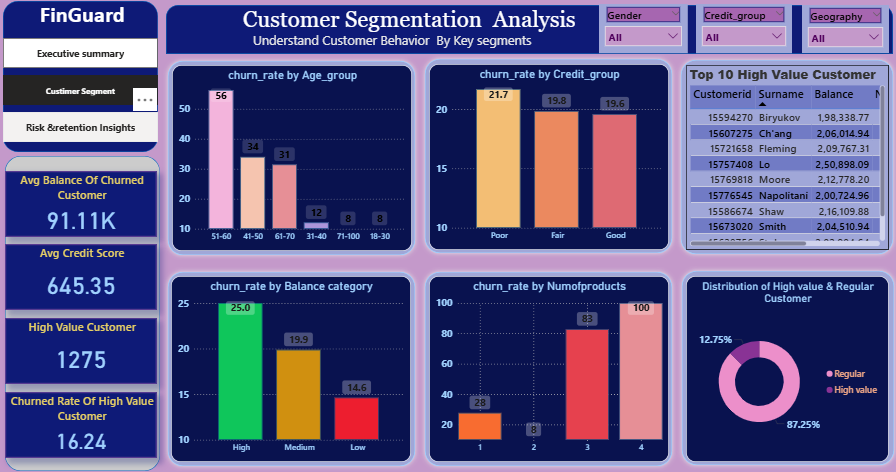

The page's visual inventory and layout, read from the dashboard file:
{"tool":"powerbi","page":{"name":"Custimer Segment","canvas":[1500,820],"ordinal":1},"visuals":[{"type":"shape","box":[10,268.3,258.3,525],"z":0},{"type":"shape","box":[278.3,16.7,1211.7,81.7],"z":1000},{"type":"card","title":"Avg Balance Of Churned Customer","fields":{"Values":["Bank churn clean.Avg balance of churned customer"]},"box":[10,293.3,253.3,110],"z":2000},{"type":"textbox","box":[401.7,15,630,56.7],"z":3000},{"type":"card","title":"Churned Rate Of High Value Customer","fields":{"Values":["Bank churn clean.churn rate of high value cus"]},"box":[10,661.7,253.3,110],"z":4000},{"type":"card","title":"High Value Customer","fields":{"Values":["Bank churn clean.Count of highvalue cus"]},"box":[10,538.3,253.3,110],"z":5000},{"type":"card","title":"Avg Credit Score","fields":{"Values":["Bank churn clean.Avg Credit score of churned customer"]},"box":[10,415,253.3,110],"z":6000},{"type":"shape","box":[273.3,101.7,428.3,340],"z":7000},{"type":"shape","box":[701.7,98.3,428.3,340],"z":8000},{"type":"shape","box":[701.7,453.3,428.3,340],"z":9000},{"type":"shape","box":[273.3,453.3,428.3,340],"z":10000},{"type":"shape","box":[1128.3,100,370,340],"z":11000},{"type":"columnChart","fields":{"Y":["Bank churn clean.churn_rate"],"Category":["Bank churn clean.Age_group"]},"box":[288.3,116.7,400,310],"z":12000},{"type":"columnChart","fields":{"Category":["Bank churn clean.Credit_group"],"Y":["Bank churn clean.churn_rate"]},"box":[716.7,115,400,310],"z":13000},{"type":"shape","box":[1130,451.7,370,340],"z":13500},{"type":"columnChart","fields":{"Y":["Bank churn clean.churn_rate"],"Category":["Bank churn clean.Balance category"]},"box":[286.7,468.3,400,310],"z":14000},{"type":"columnChart","fields":{"Y":["Bank churn clean.churn_rate"],"Category":["Bank churn clean.Numofproducts"]},"box":[716.7,468.3,400,310],"z":15000},{"type":"tableEx","title":"Top 10 High Value Customer","fields":{"Values":["Bank churn clean.Customerid","Bank churn clean.Surname","Bank churn clean.Balance","Bank churn clean.Numofproducts","Bank churn clean.Tenure"]},"box":[1145,116.7,338.3,308.3],"z":16000},{"type":"slicer","fields":{"Values":["Bank churn clean.Geography"]},"box":[1338.3,16.7,145,80],"z":17000},{"type":"donutChart","title":"Distribution of High value  & Regular Customer","fields":{"Category":["Bank churn clean.High value customer"],"Y":["CountNonNull(Bank churn clean.Customerid)"]},"box":[1145,468.3,338.3,310],"z":18000},{"type":"slicer","fields":{"Values":["Bank churn clean.Gender"]},"box":[1000,15,148.3,81.7],"z":19000},{"type":"slicer","fields":{"Values":["Bank churn clean.Credit_group"]},"box":[1161.7,15,160,81.7],"z":20000},{"type":"shape","box":[6.7,10,258.3,251.7],"z":20001},{"type":"pageNavigator","box":[6.7,133.3,258.3,50],"z":20002},{"type":"pageNavigator","box":[6.7,71.7,258.3,50],"z":20003},{"type":"pageNavigator","box":[6.7,195,258.3,50],"z":20004},{"type":"textbox","box":[63.3,3.3,186.7,58.3],"z":20005},{"type":"textbox","box":[418.3,55,566.7,41.7],"z":20006}]}

Visuals, with their boxes on the page's 1500x820 design canvas (x1, y1, x2, y2). These are canvas units, not pixel positions in the 896x472 screenshot, which may show the page scaled, cropped or inside an application window:
shape: bbox=(10, 268, 268, 793)
shape: bbox=(278, 17, 1490, 98)
"Avg Balance Of Churned Customer" card: bbox=(10, 293, 263, 403)
textbox: bbox=(402, 15, 1032, 72)
"Churned Rate Of High Value Customer" card: bbox=(10, 662, 263, 772)
"High Value Customer" card: bbox=(10, 538, 263, 648)
"Avg Credit Score" card: bbox=(10, 415, 263, 525)
shape: bbox=(273, 102, 702, 442)
shape: bbox=(702, 98, 1130, 438)
shape: bbox=(702, 453, 1130, 793)
shape: bbox=(273, 453, 702, 793)
shape: bbox=(1128, 100, 1498, 440)
columnChart - Bank churn clean.churn_rate x Bank churn clean.Age_group: bbox=(288, 117, 688, 427)
columnChart - Bank churn clean.Credit_group x Bank churn clean.churn_rate: bbox=(717, 115, 1117, 425)
shape: bbox=(1130, 452, 1500, 792)
columnChart - Bank churn clean.churn_rate x Bank churn clean.Balance category: bbox=(287, 468, 687, 778)
columnChart - Bank churn clean.churn_rate x Bank churn clean.Numofproducts: bbox=(717, 468, 1117, 778)
"Top 10 High Value Customer" tableEx: bbox=(1145, 117, 1483, 425)
slicer - Bank churn clean.Geography: bbox=(1338, 17, 1483, 97)
"Distribution of High value  & Regular Customer" donutChart: bbox=(1145, 468, 1483, 778)
slicer - Bank churn clean.Gender: bbox=(1000, 15, 1148, 97)
slicer - Bank churn clean.Credit_group: bbox=(1162, 15, 1322, 97)
shape: bbox=(7, 10, 265, 262)
pageNavigator: bbox=(7, 133, 265, 183)
pageNavigator: bbox=(7, 72, 265, 122)
pageNavigator: bbox=(7, 195, 265, 245)
textbox: bbox=(63, 3, 250, 62)
textbox: bbox=(418, 55, 985, 97)
